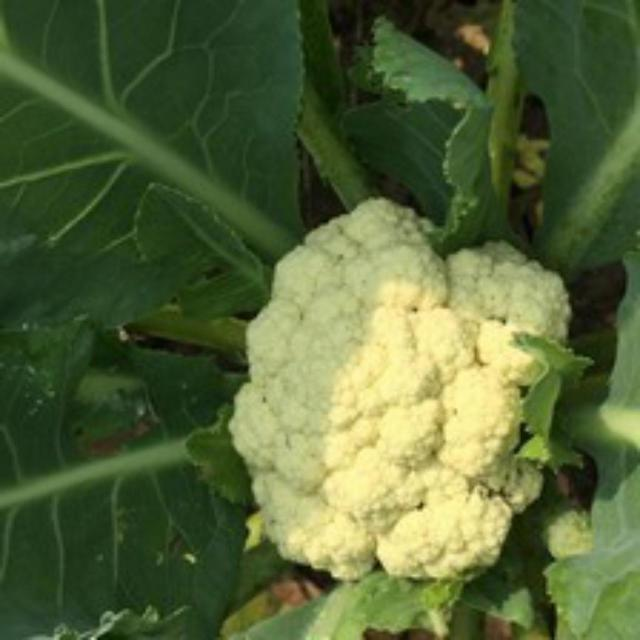cauliflower: (211, 187, 577, 589)
